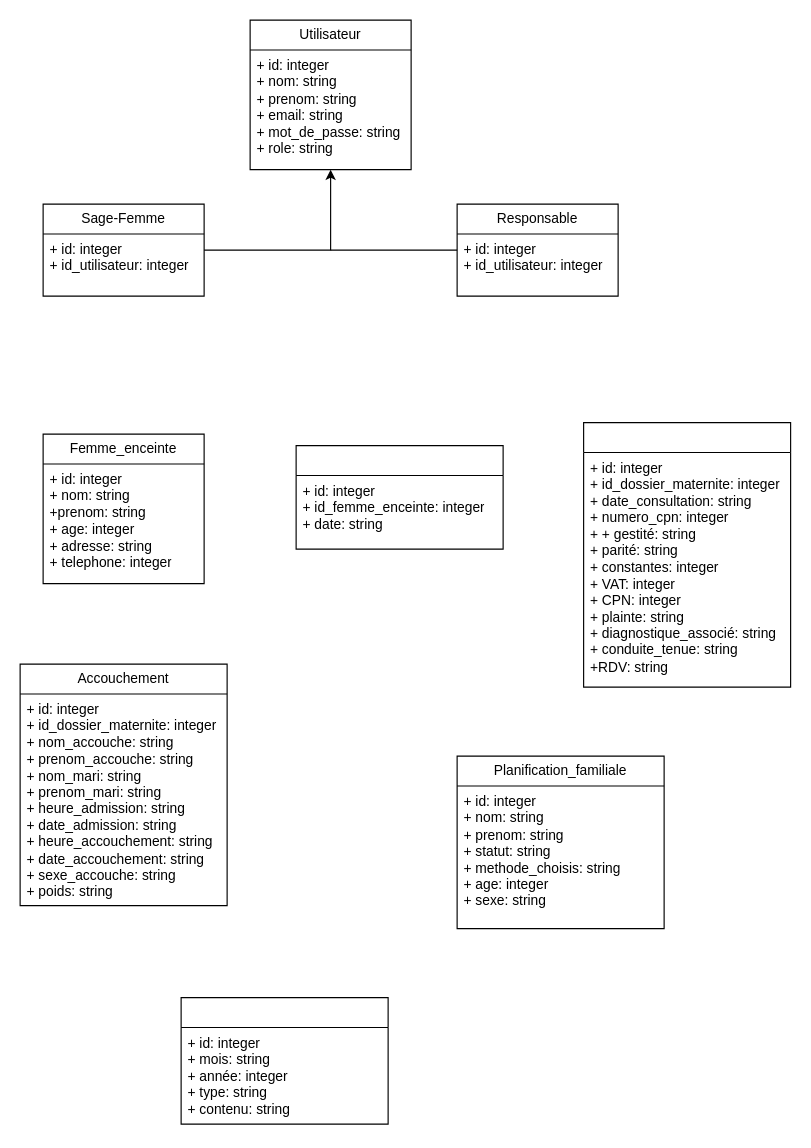
Some shapes in this 811 by 1148 pixel diagram are drawn without their labels. Here are the shapes that lost their labels. From the top down, the box of each, then its label:
(295, 444, 503, 549): Dossier_maternite
(582, 421, 791, 687): Consultation_prenatale
(180, 996, 388, 1124): Rapport
